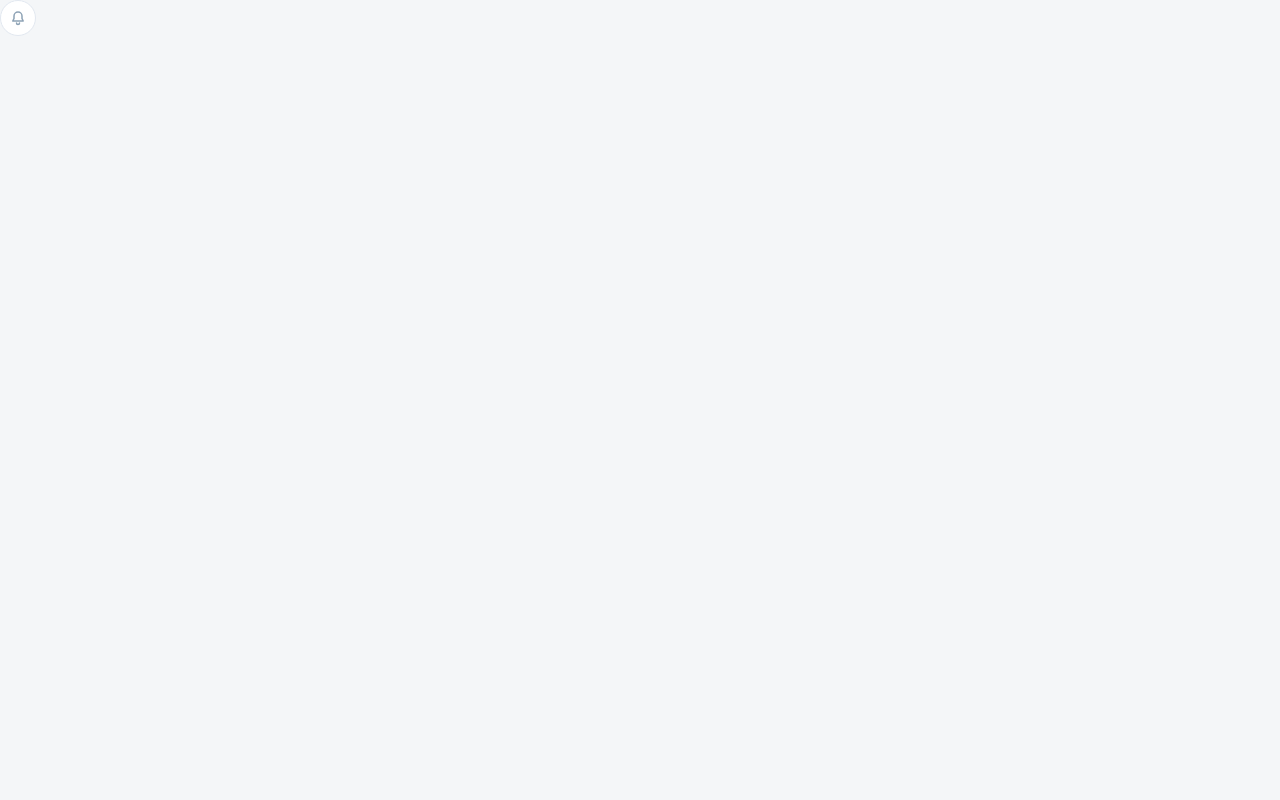
Scenario: SinoNotificacoes › abre o dropdown, mostra estado vazio e atualiza aria-expanded
The image size is (1280, 800).
Click the button named "Notificações" at (18, 18), box [0,0,36,36]
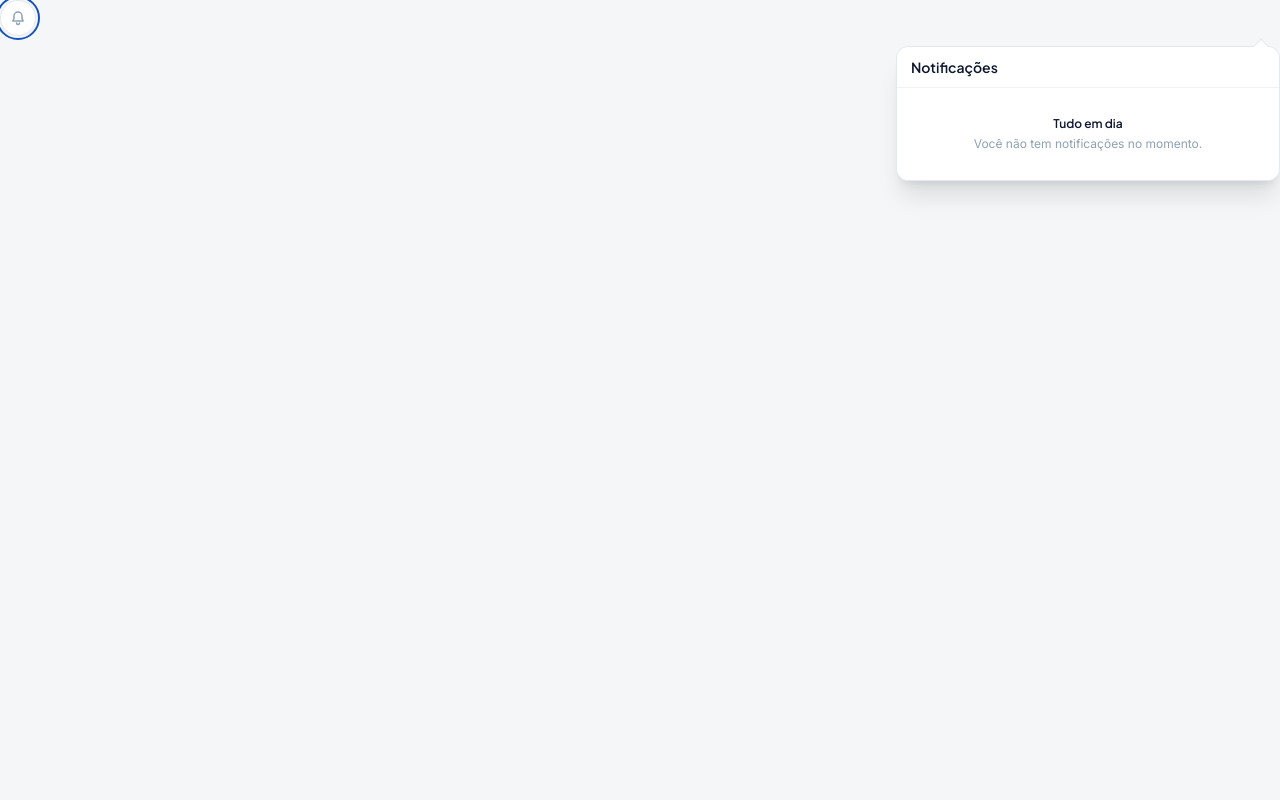
Expected: the dialog "Notificações" is shown, [896,46,1279,181]
Expected: the text "Você não tem notificações no momento." is shown, [974,136,1202,151]
